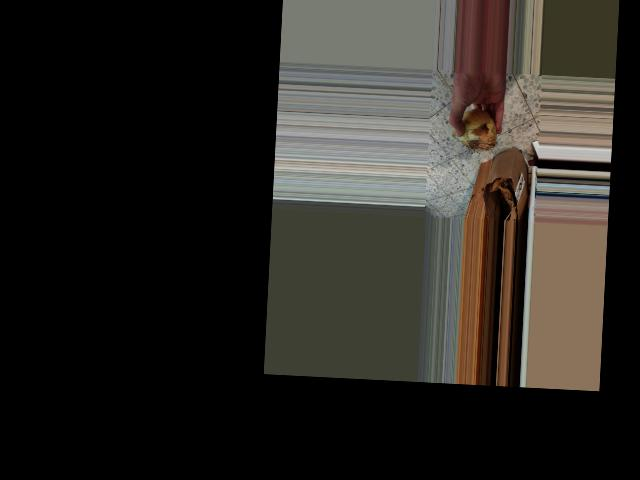onion: (450, 103, 498, 152)
